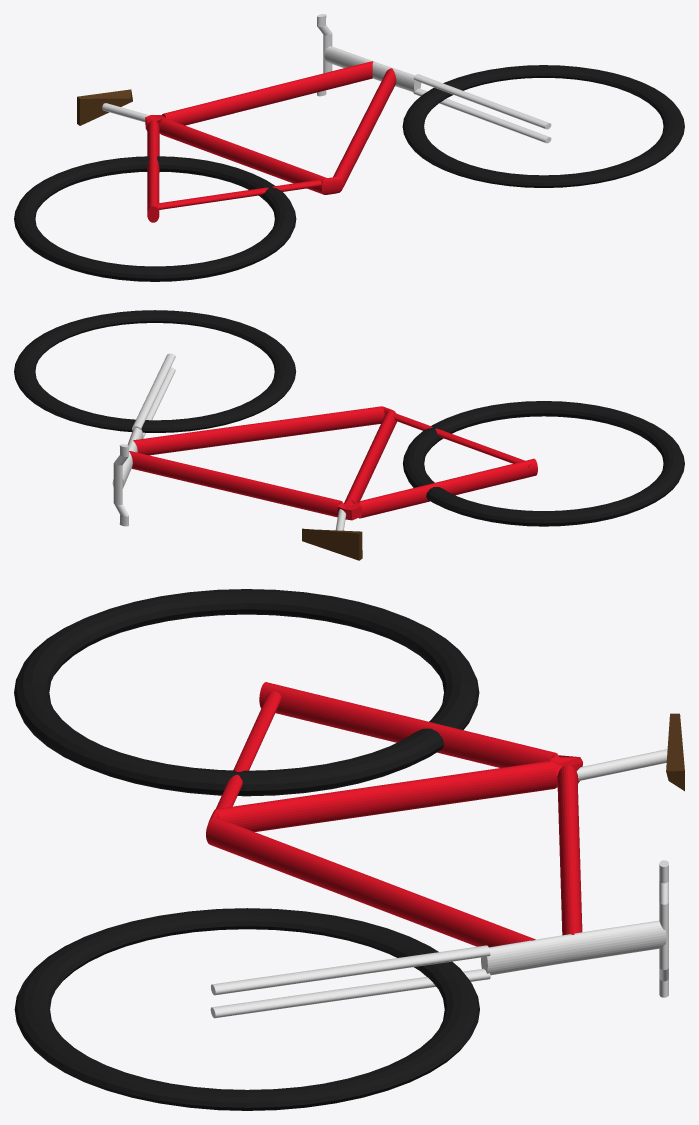
The model's file is Bike.glb.
3 views of the same model, one above another, from view 1: azimuth 30°, elevation 25°; view 2: azimuth 150°, elevation 25°; view 3: azimuth 270°, elevation 25° (orthographic). The views are drawn at different scales.
Parts seen in each view (by area): view 1: Frame, BackTire, FrontTire, Axel; view 2: Frame, BackTire, FrontTire, Axel; view 3: Frame, BackTire, FrontTire, Axel.
Boxes of the visible parts, left/top/right/bottom form: Frame: left=77, top=61, right=396, bottom=222; BackTire: left=14, top=156, right=296, bottom=281; FrontTire: left=402, top=65, right=684, bottom=187; Axel: left=317, top=14, right=551, bottom=143; Frame: left=129, top=406, right=537, bottom=560; BackTire: left=403, top=401, right=684, bottom=526; FrontTire: left=14, top=310, right=296, bottom=432; Axel: left=112, top=353, right=175, bottom=526; Frame: left=206, top=682, right=684, bottom=947; BackTire: left=14, top=589, right=479, bottom=796; FrontTire: left=14, top=908, right=479, bottom=1110; Axel: left=210, top=860, right=668, bottom=1018.
Size of the model in its own units: 4.77 by 0.57 by 2.65.
